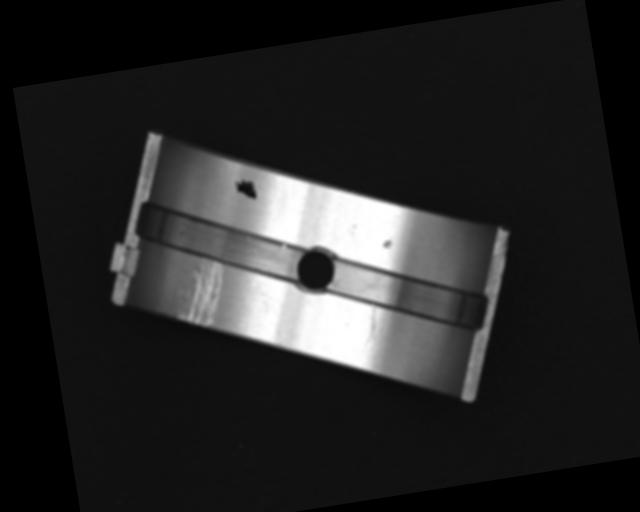blot: (233, 176, 259, 203)
bruise: (382, 238, 393, 248)
gap: (131, 178, 307, 300), (321, 241, 492, 350)
hole: (293, 245, 339, 295)
nick: (357, 304, 383, 350)
scratch: (171, 258, 231, 329)
